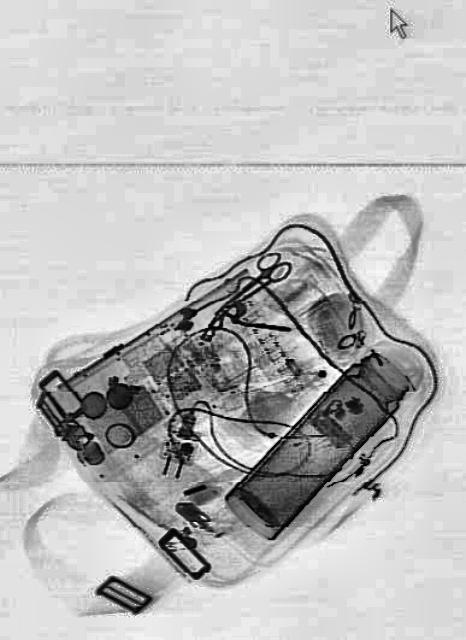Scissors: (224, 240, 292, 310)
